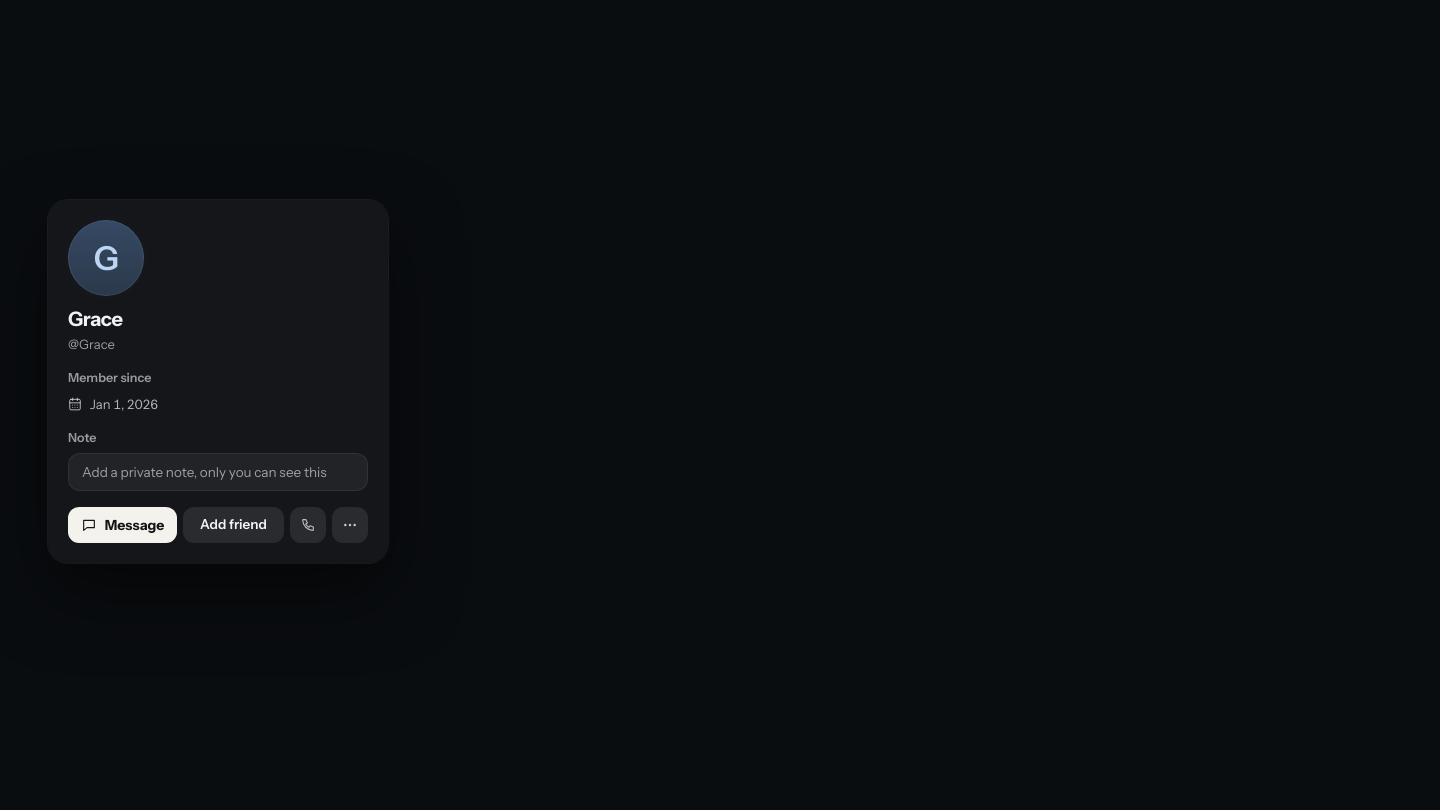
Scenario: UserProfilePopup action feedback › shows API detail when sending a friend request fails
The image size is (1440, 810).
Click the button with aria-label "Add Grace as a friend" at point(234, 525), box [183, 507, 284, 543]
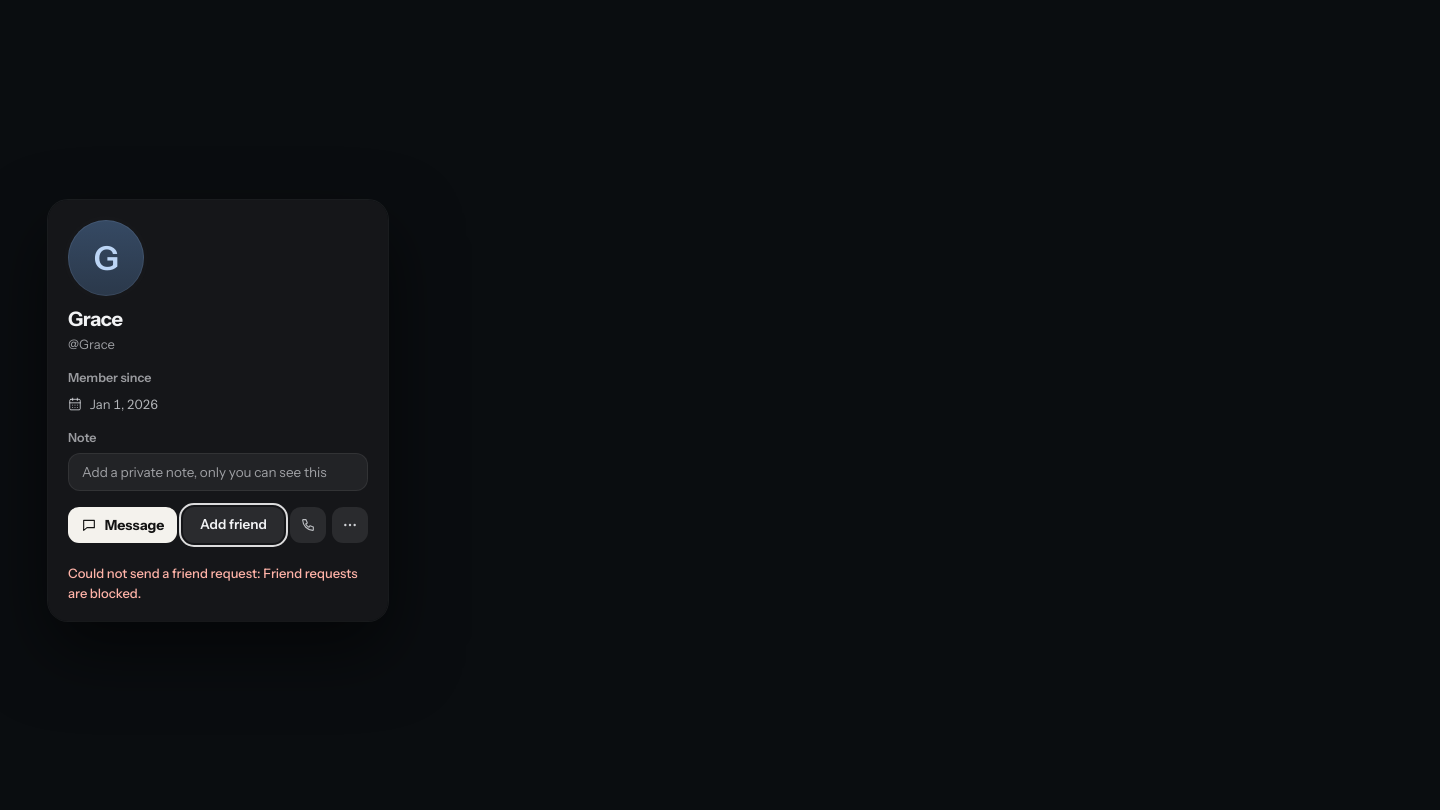
Expected: the message reads "Could not send a friend request: Friend requests are blocked.", [68, 565, 358, 601]
